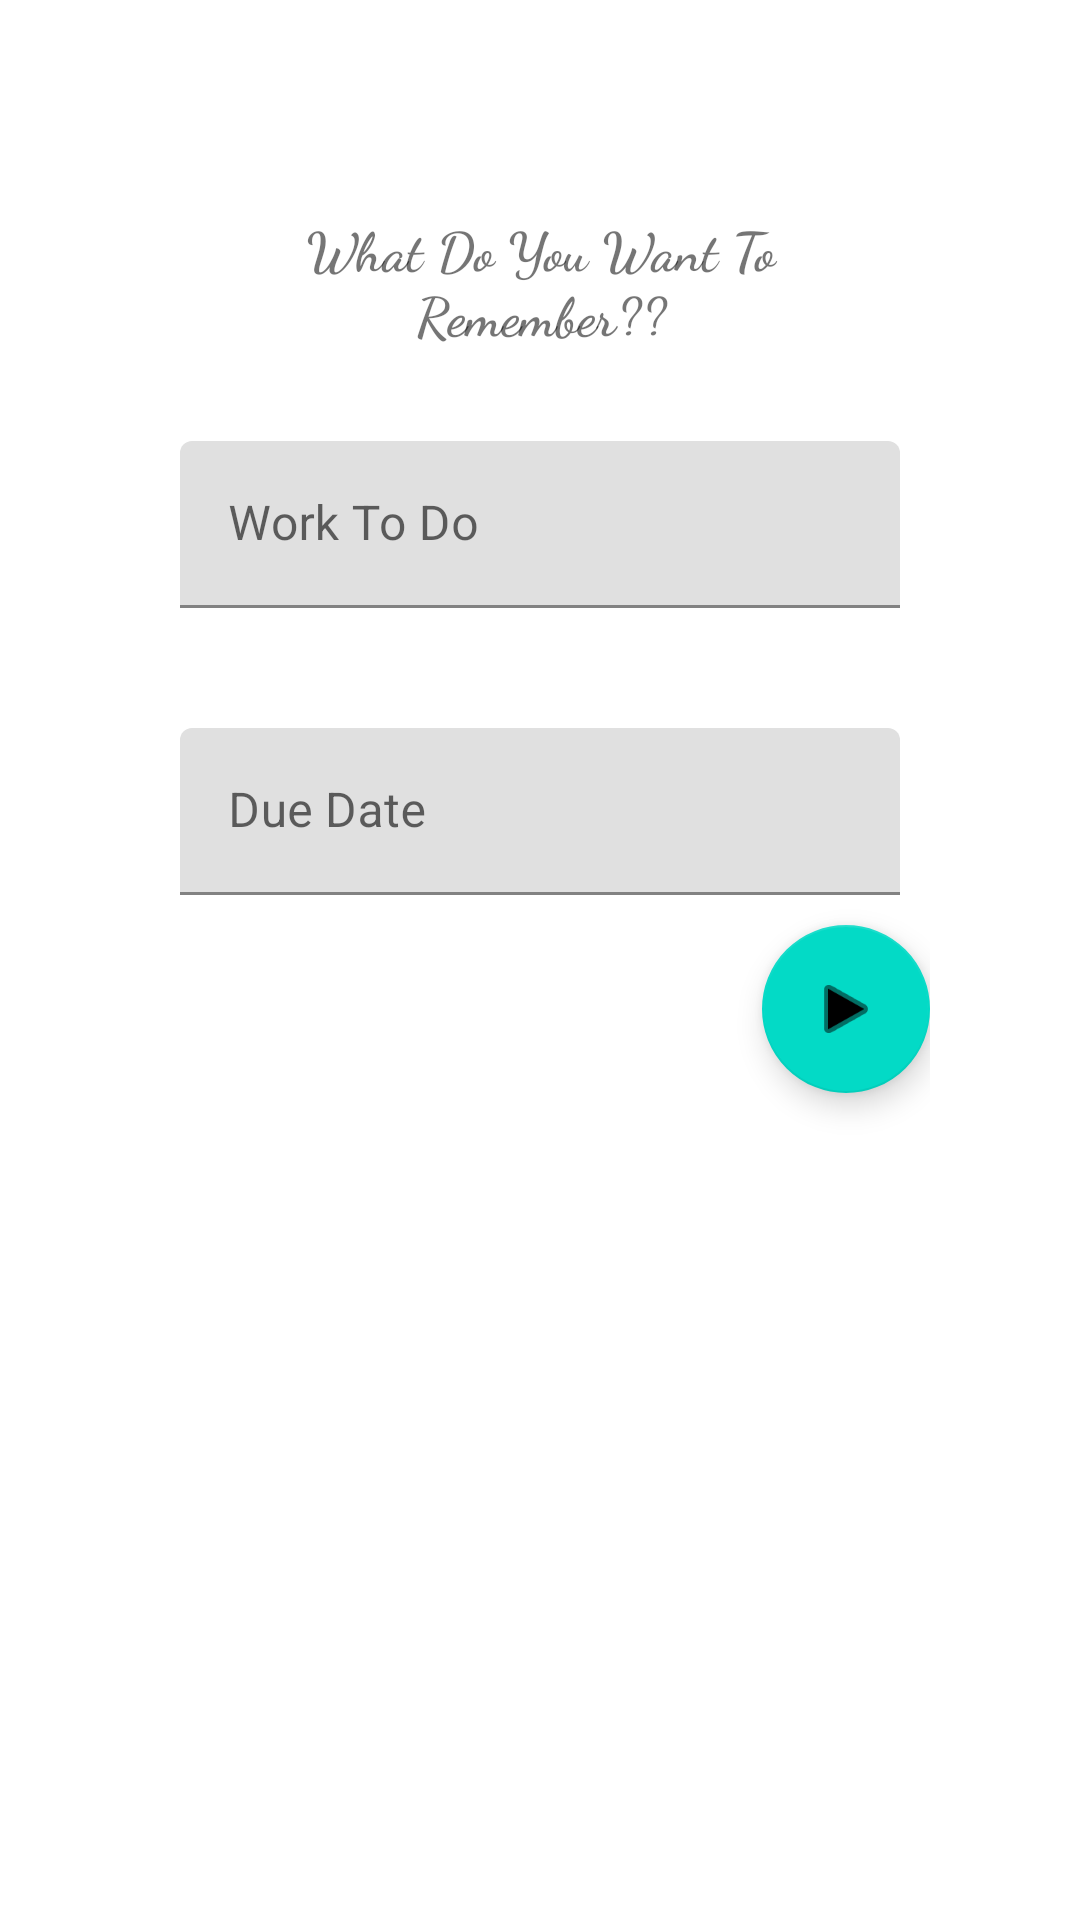

Where to tap for icons on this 1080*1920 app screen, as (x=x, y=y):
play: (x=846, y=1009)
